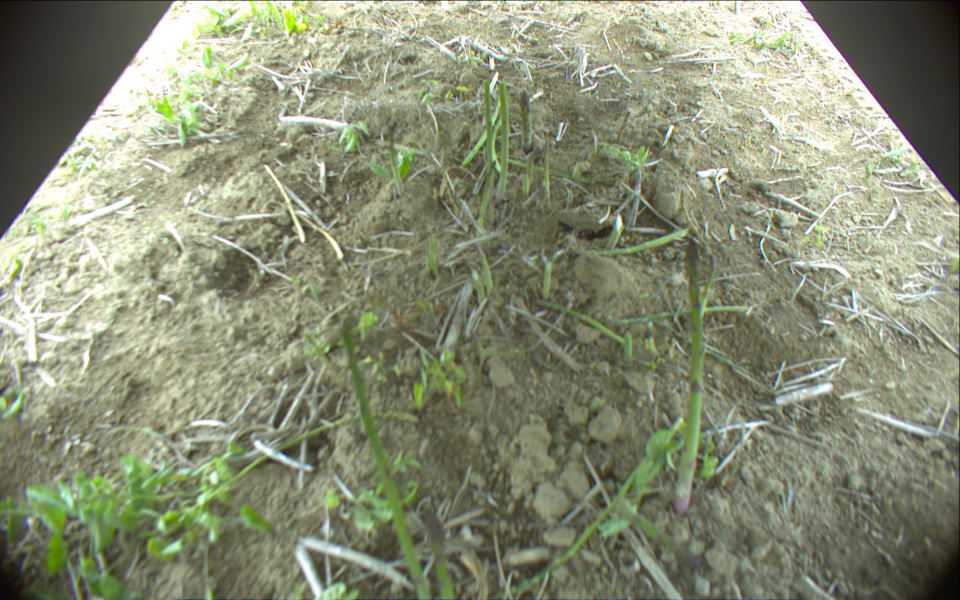aspa: (498, 421, 684, 600), (341, 326, 428, 600), (203, 414, 420, 502), (675, 239, 705, 516), (578, 227, 688, 261), (463, 97, 503, 164), (426, 513, 455, 600), (625, 306, 750, 324), (499, 80, 510, 197), (481, 79, 493, 184), (388, 125, 406, 195), (475, 247, 496, 296), (520, 90, 532, 153), (470, 274, 486, 305), (543, 137, 549, 204), (542, 263, 552, 301), (625, 331, 635, 363)
